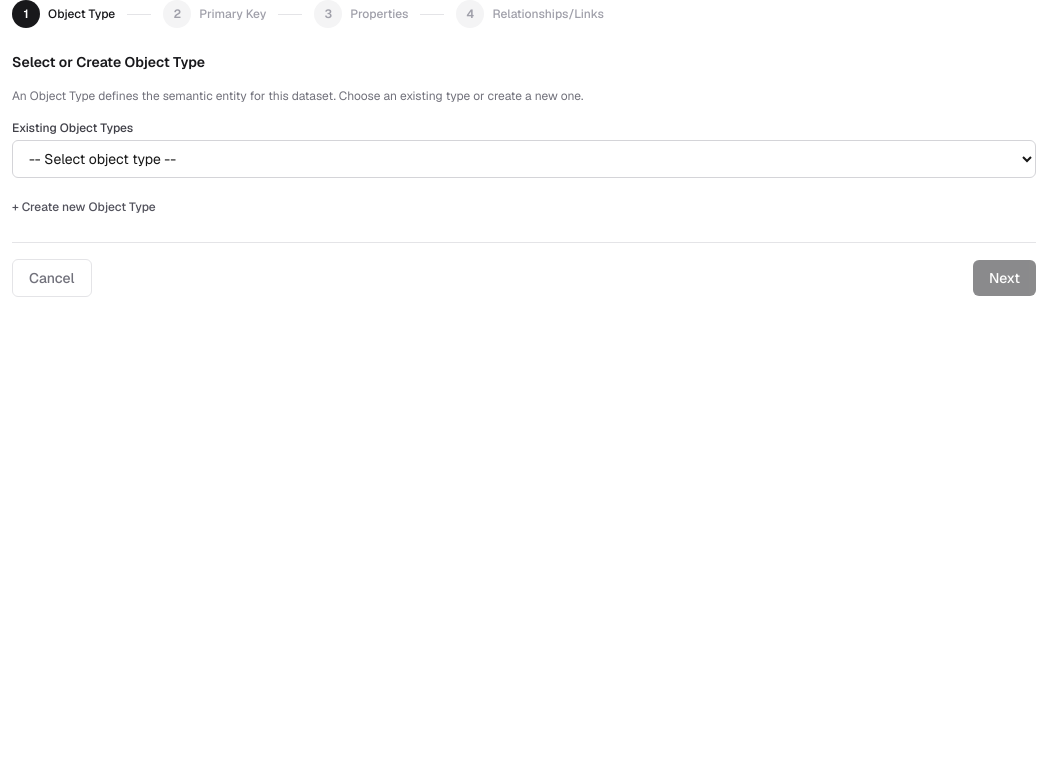
EntityMappingWizard › Step 1: Object Type › shows create form and creates new object type inline
The image size is (1048, 768).
Expected: the heading "Select or Create Object Type" is shown, [12, 53, 205, 71]
// Open create form
Click the button "+ Create new Object Type".
click(84, 207)  # box [12, 199, 156, 215]
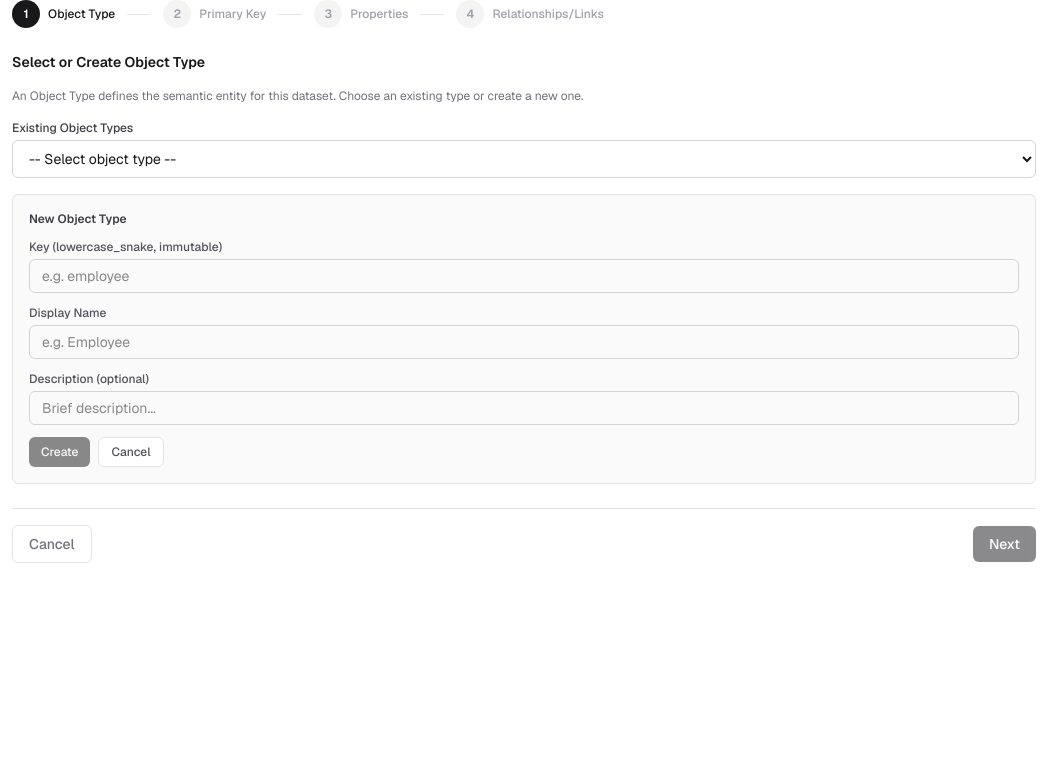
Expected: the heading "New Object Type" is shown, [29, 211, 127, 227]
// Fill form
Type "contractor" into the field with placeholder "e.g. employee".
click(524, 276); type("contractor")  # box [29, 259, 1019, 293]
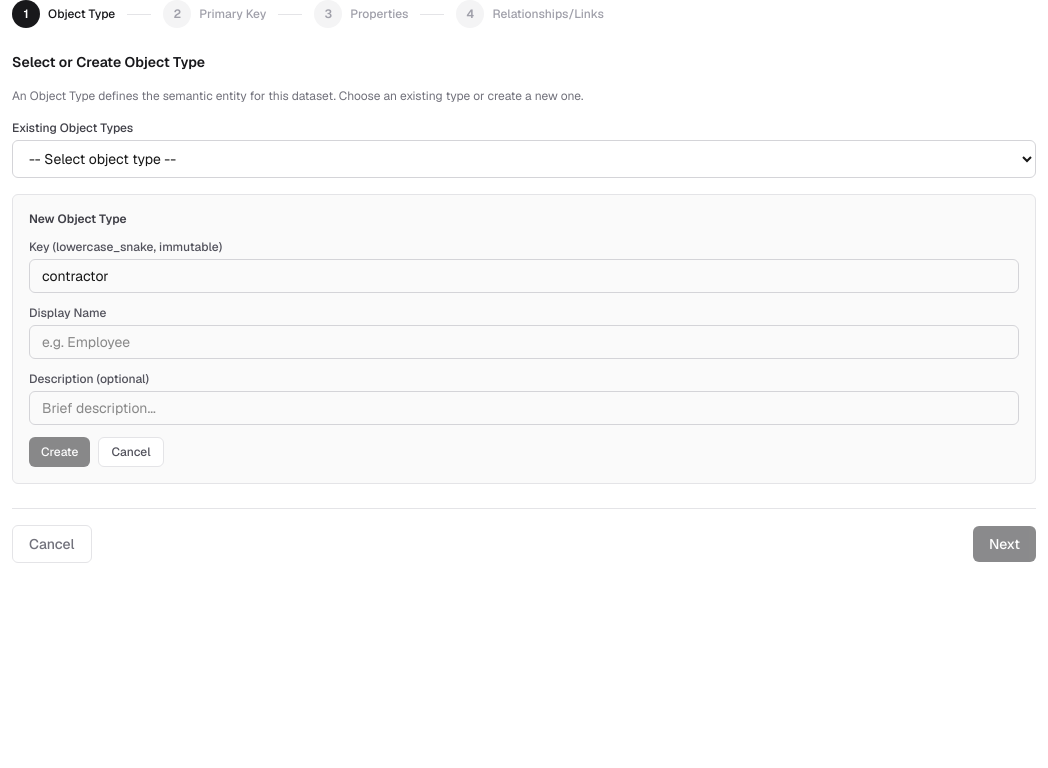
Type "Contractor" into the field with placeholder "e.g. Employee".
click(524, 342); type("Contractor")  # box [29, 325, 1019, 359]
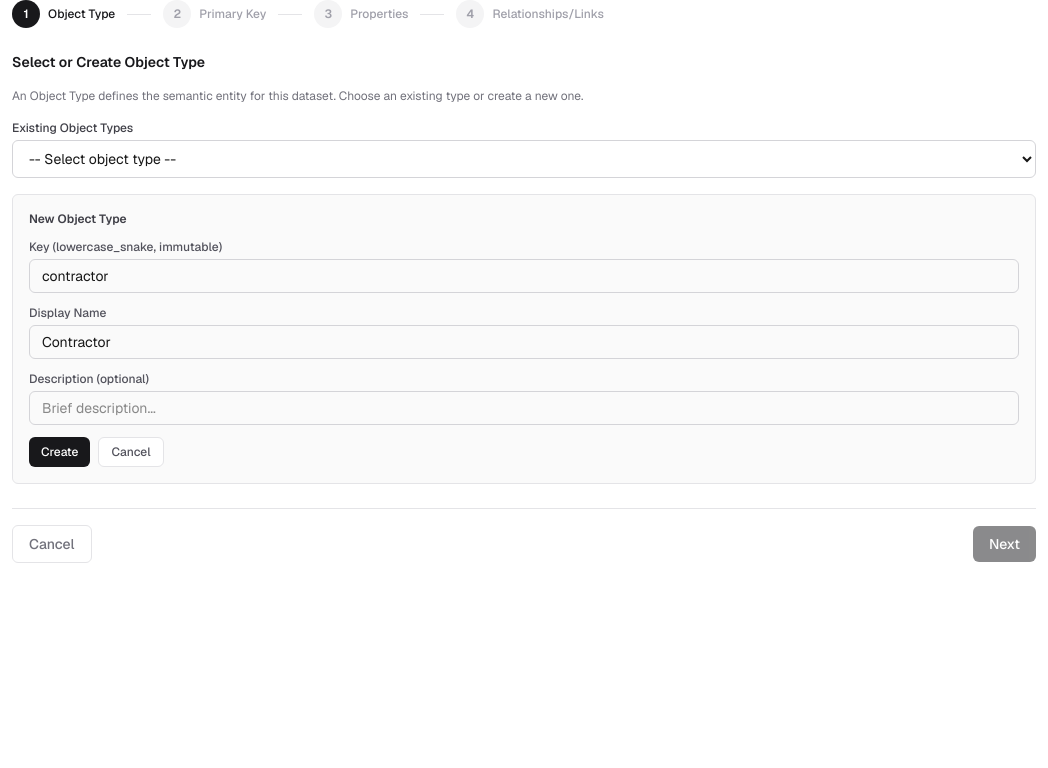
Click the button "Create".
click(60, 452)  # box [29, 437, 90, 467]
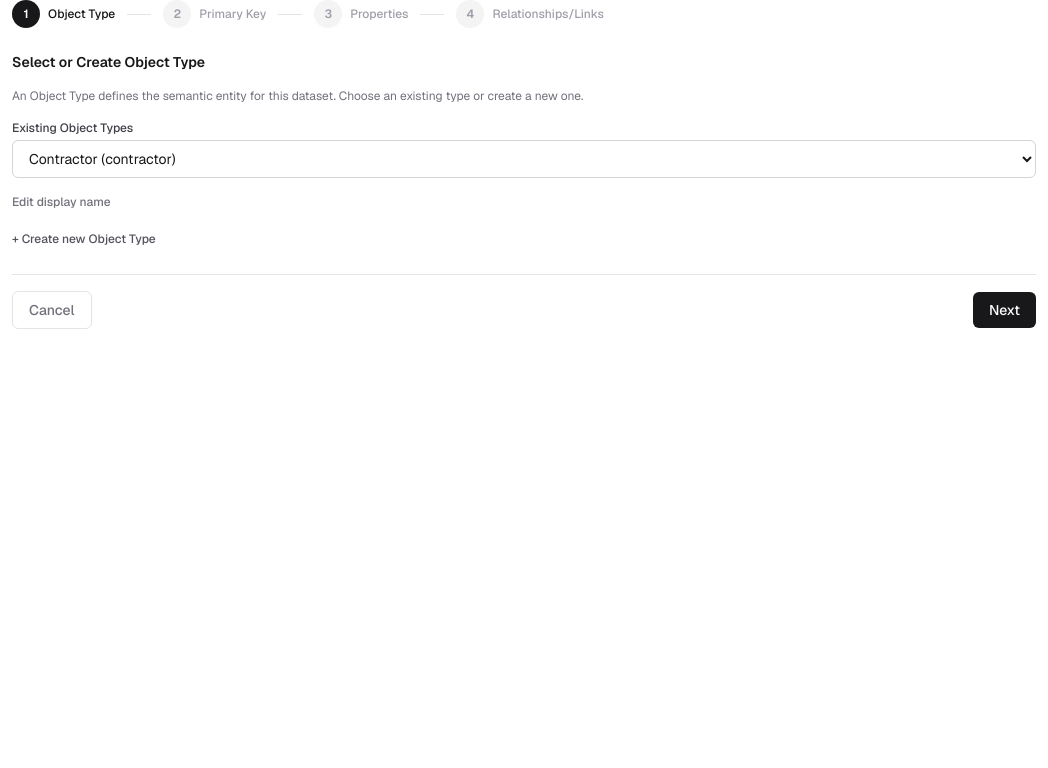
Now the button "+ Create new Object Type" is shown, box [12, 231, 156, 247]
